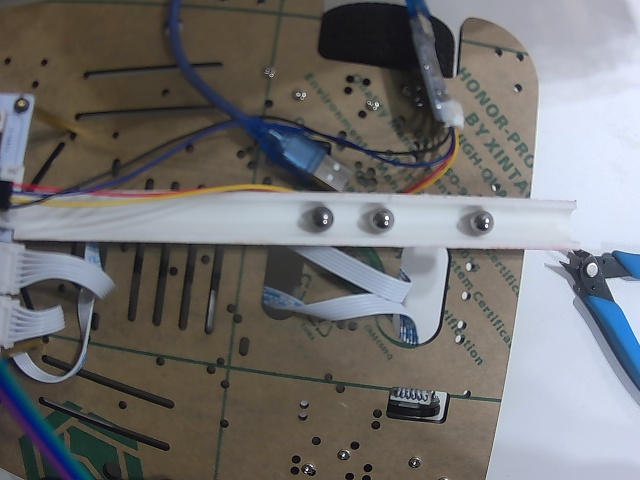steelball: (308, 206, 334, 230), (470, 211, 495, 235), (370, 209, 395, 232)
